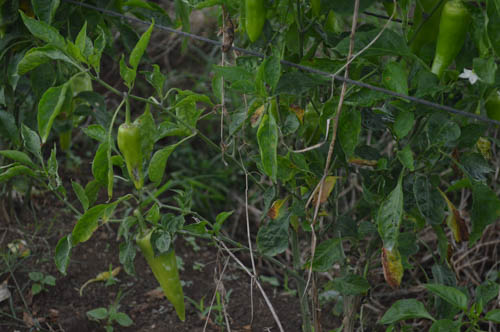ChiliPepper: (138, 233, 184, 320), (432, 5, 470, 83), (119, 126, 144, 186)
